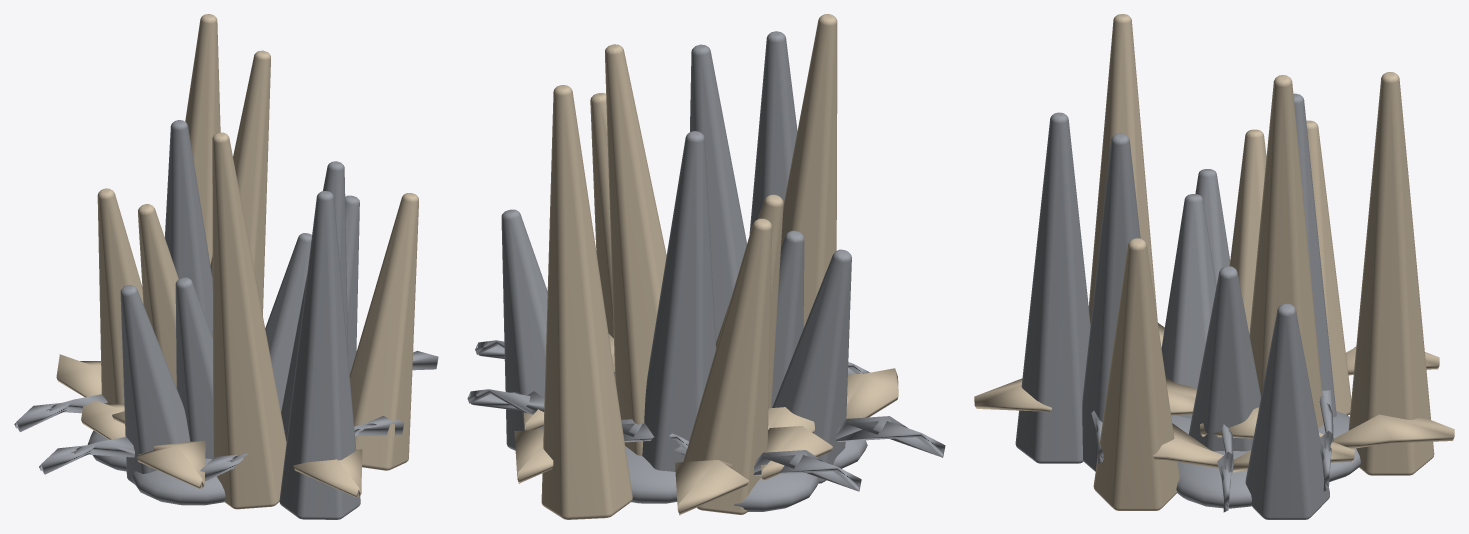
File: bio_crystal_fan_25_near.glb
3 renders of one model, left to right at view 1: azimuth 30°, elevation 25°; view 2: azimuth 150°, elevation 25°; view 3: azimuth 270°, elevation 25°, orthographic. The views are drawn at different scales.
Parts seen in each view (by area): view 1: Reflecting mineral prism.007, Reflecting mineral prism.002, Reflecting mineral prism.005, Reflecting mineral prism.004, Reflecting mineral prism.003, Reflecting mineral prism.006, Reflecting mineral prism.001, Reflecting mineral prism.012, Reflecting mineral prism.011, Reflecting mineral prism.009, Reflecting mineral prism, Low buttress leaf.017 (+8 smaller); view 2: Reflecting mineral prism.011, Reflecting mineral prism.006, Reflecting mineral prism.003, Reflecting mineral prism.001, Reflecting mineral prism.007, Reflecting mineral prism.004, Reflecting mineral prism.010, Reflecting mineral prism.008, Reflecting mineral prism.002, Mineral substrate, Low buttress leaf.017, Reflecting mineral prism.012 (+7 smaller); view 3: Reflecting mineral prism.011, Reflecting mineral prism.002, Reflecting mineral prism.005, Reflecting mineral prism.003, Reflecting mineral prism.008, Reflecting mineral prism.010, Reflecting mineral prism, Reflecting mineral prism.012, Reflecting mineral prism.007, Reflecting mineral prism.001, Reflecting mineral prism.009, Mineral substrate (+7 smaller).
Part boxes in pixels (box(x1,y1,x2,y2)): Reflecting mineral prism.007: box(212, 132, 286, 509); Reflecting mineral prism.002: box(279, 191, 360, 519); Reflecting mineral prism.005: box(349, 193, 418, 470); Reflecting mineral prism.004: box(120, 285, 190, 484); Reflecting mineral prism.003: box(210, 50, 270, 336); Reflecting mineral prism.006: box(165, 120, 212, 335); Reflecting mineral prism.001: box(97, 188, 143, 404); Reflecting mineral prism.012: box(175, 277, 213, 458); Reflecting mineral prism.011: box(185, 14, 220, 264); Reflecting mineral prism.009: box(138, 204, 178, 387); Reflecting mineral prism: box(265, 233, 311, 411); Low buttress leaf.017: box(81, 396, 205, 488); Reflecting mineral prism.011: box(541, 85, 632, 519); Reflecting mineral prism.006: box(642, 131, 716, 471); Reflecting mineral prism.003: box(605, 44, 666, 455); Reflecting mineral prism.001: box(683, 218, 772, 514); Reflecting mineral prism.007: box(781, 14, 837, 327); Reflecting mineral prism.004: box(772, 249, 851, 483); Reflecting mineral prism.010: box(690, 44, 746, 341); Reflecting mineral prism.008: box(501, 209, 547, 450); Reflecting mineral prism.002: box(749, 31, 797, 234); Mineral substrate: box(625, 440, 867, 511); Low buttress leaf.017: box(761, 368, 898, 481); Reflecting mineral prism.012: box(771, 230, 804, 407); Reflecting mineral prism.011: box(1348, 72, 1434, 475); Reflecting mineral prism.002: box(1015, 112, 1090, 463); Reflecting mineral prism.005: box(1093, 238, 1179, 510); Reflecting mineral prism.003: box(1249, 75, 1323, 428); Reflecting mineral prism.008: box(1245, 303, 1329, 519); Reflecting mineral prism.010: box(1082, 133, 1140, 471); Reflecting mineral prism: box(1188, 266, 1260, 451); Reflecting mineral prism.012: box(1161, 194, 1216, 418); Reflecting mineral prism.007: box(1088, 14, 1157, 323); Reflecting mineral prism.001: box(1306, 120, 1351, 415); Reflecting mineral prism.009: box(1229, 129, 1266, 334); Mineral substrate: box(1171, 411, 1360, 508).
Size of the model in its own units: 2.22 by 1.97 by 2.09.
